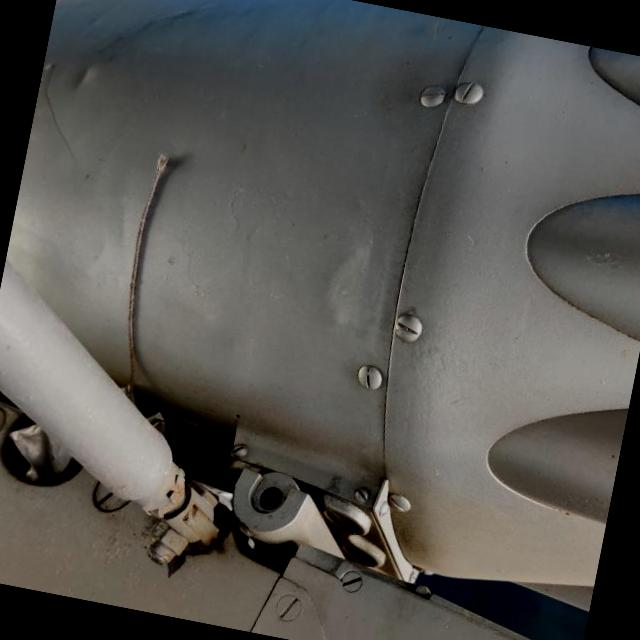dent: (298, 224, 396, 346)
